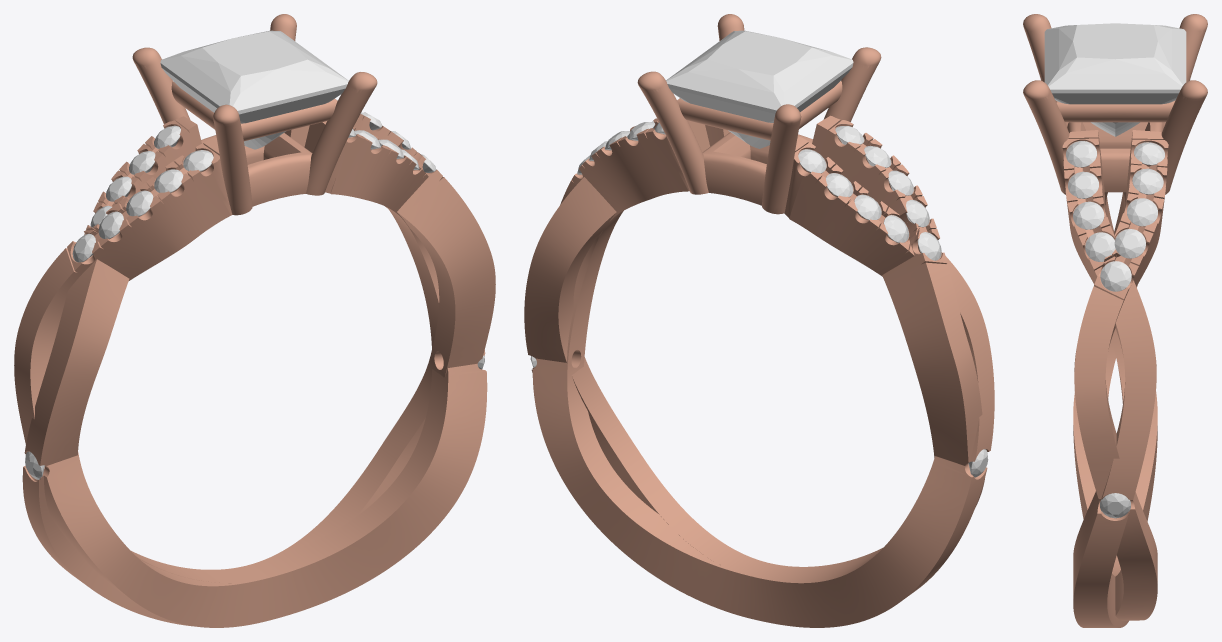
File: diamond-princess-rosegold-4prong-twist-sidestones.glb
3 renders of one model, left to right at view 1: azimuth 30°, elevation 25°; view 2: azimuth 150°, elevation 25°; view 3: azimuth 270°, elevation 25°, orthographic.
Visible parts, largest first — view 1: metal, stone; view 2: metal, stone; view 3: metal, stone, side.015, side.016, side.012, side.017, side.011, side.013, side.014, side.018, side.010, side.019.
Boxes of the visible parts, <box> form: metal: <box>14,14,495,627</box>; stone: <box>160,30,348,149</box>; metal: <box>524,14,994,627</box>; stone: <box>666,30,853,148</box>; metal: <box>1023,14,1207,627</box>; stone: <box>1044,23,1186,136</box>; side.015: <box>1100,261,1131,291</box>; side.016: <box>1114,229,1145,258</box>; side.012: <box>1073,201,1104,229</box>; side.017: <box>1127,198,1157,226</box>; side.011: <box>1085,232,1115,261</box>; side.013: <box>1068,171,1098,198</box>; side.014: <box>1066,141,1097,167</box>; side.018: <box>1132,168,1163,194</box>; side.010: <box>1100,493,1130,518</box>; side.019: <box>1134,142,1164,165</box>.
Bounding box in the file's own units: 19.97 × 23.65 × 7.08.
